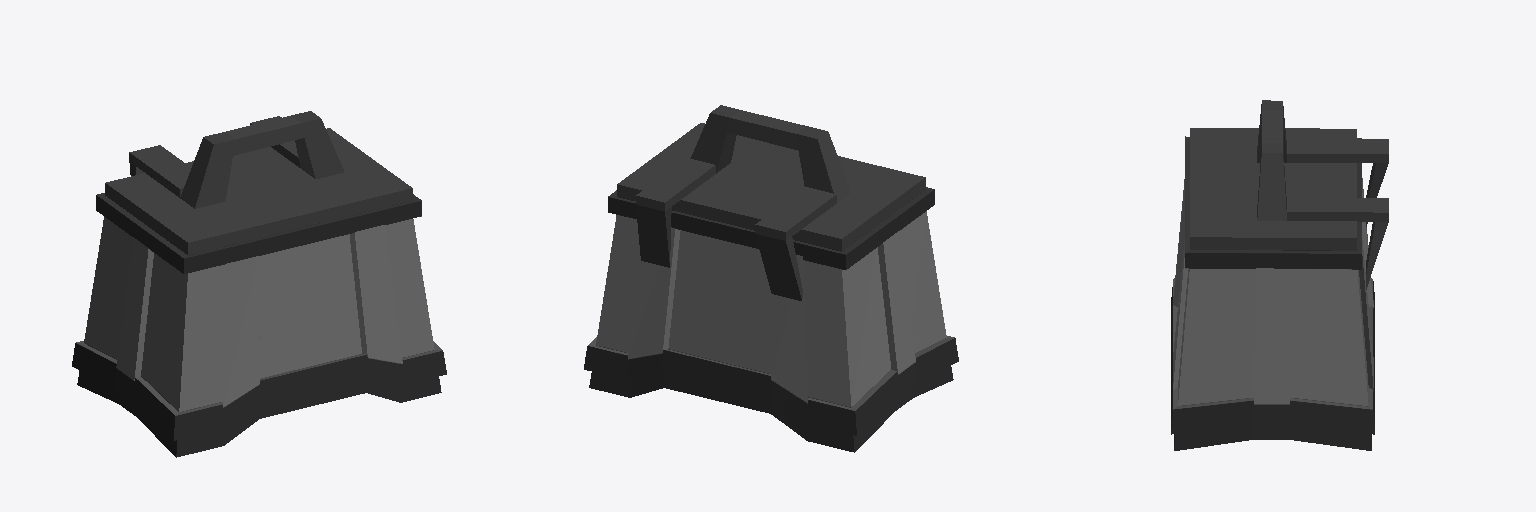
The picture shows the model from 3 angles: view 1: azimuth 30°, elevation 25°; view 2: azimuth 150°, elevation 25°; view 3: azimuth 270°, elevation 25°; orthographic projection.
Visible parts, largest first — view 1: pCube1; view 2: pCube1; view 3: pCube1.
Boxes of the visible parts, box(x1,y1,x2,y2) form: pCube1: box(72, 111, 446, 457); pCube1: box(584, 105, 958, 452); pCube1: box(1171, 100, 1388, 450).
Bounding box in the file's own units: 0.9388 × 0.8564 × 0.6473.
1 materials, 1 textured.